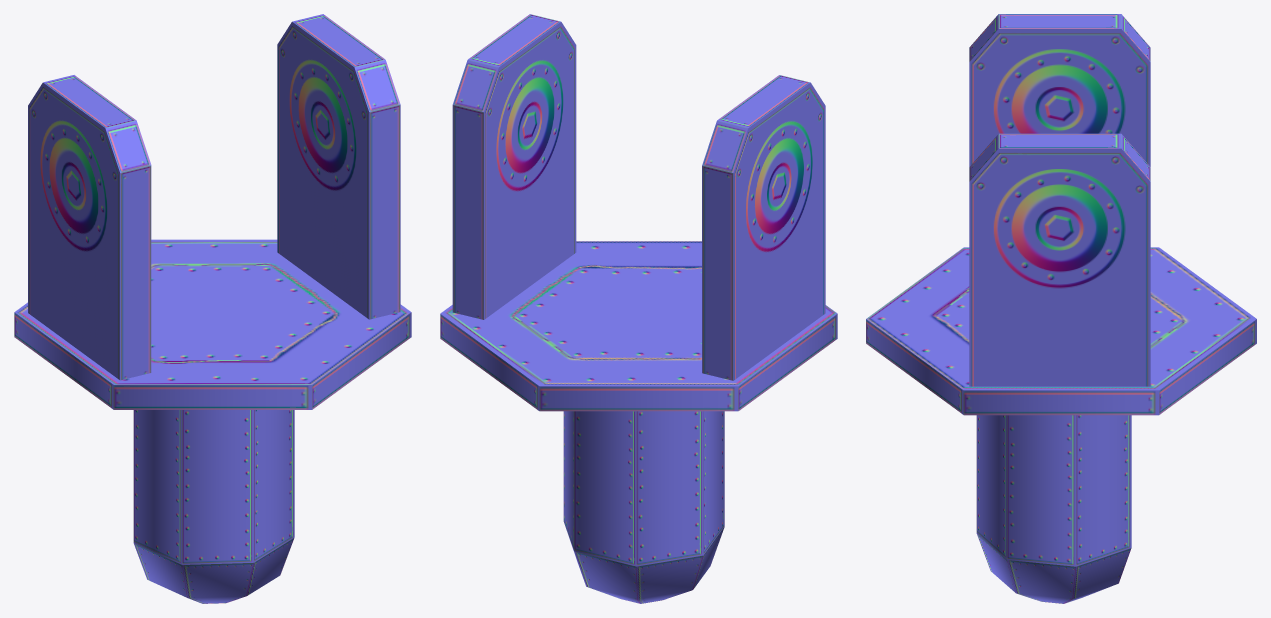
File: Rotatory_Base.FBX
3 renders of one model, left to right at view 1: azimuth 30°, elevation 25°; view 2: azimuth 150°, elevation 25°; view 3: azimuth 270°, elevation 25°, orthographic.
Parts seen in each view (by area): view 1: Rotatory_Base; view 2: Rotatory_Base; view 3: Rotatory_Base.
Part boxes in pixels (x1,y1,x2,y2): Rotatory_Base: (14,14,411,603); Rotatory_Base: (440,14,837,603); Rotatory_Base: (866,14,1256,603).
Size of the model in its own units: 44.14 by 73.8 by 50.97.
